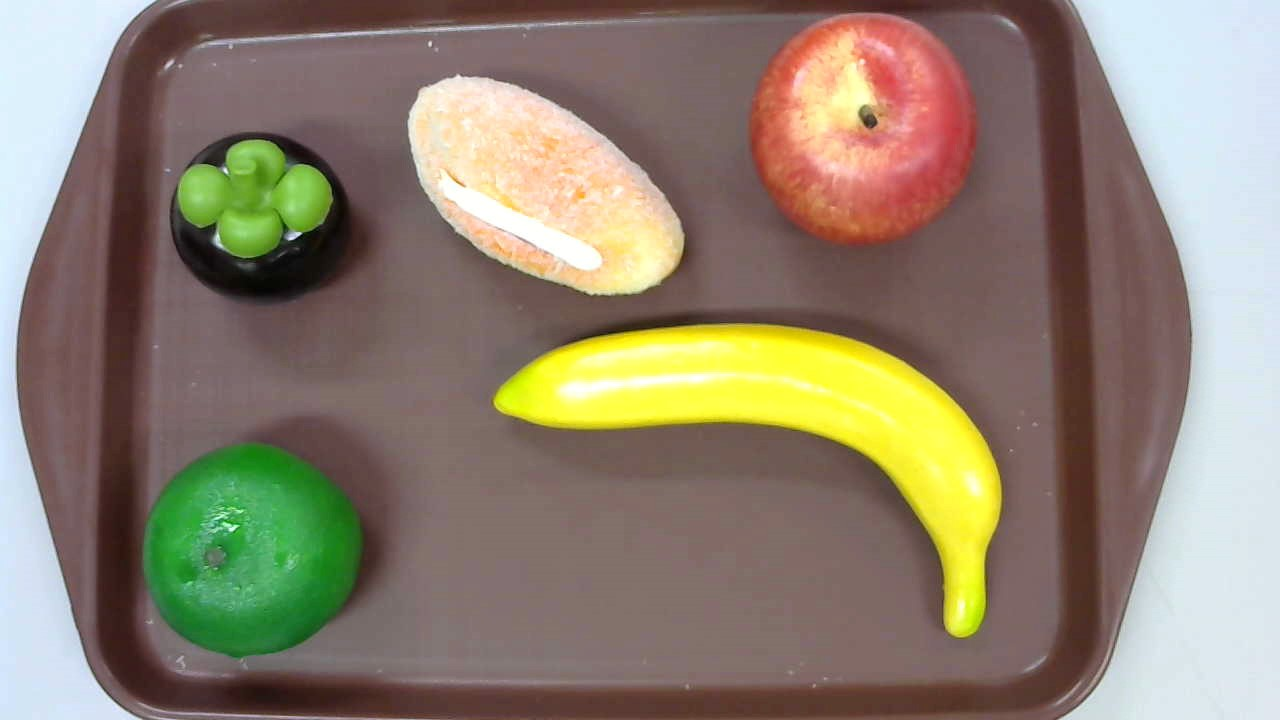banana: (492, 323, 1003, 640)
coconut: (407, 75, 685, 297)
green orange: (142, 443, 362, 659)
mangosteen: (171, 132, 350, 303)
red apple: (749, 10, 979, 246)
